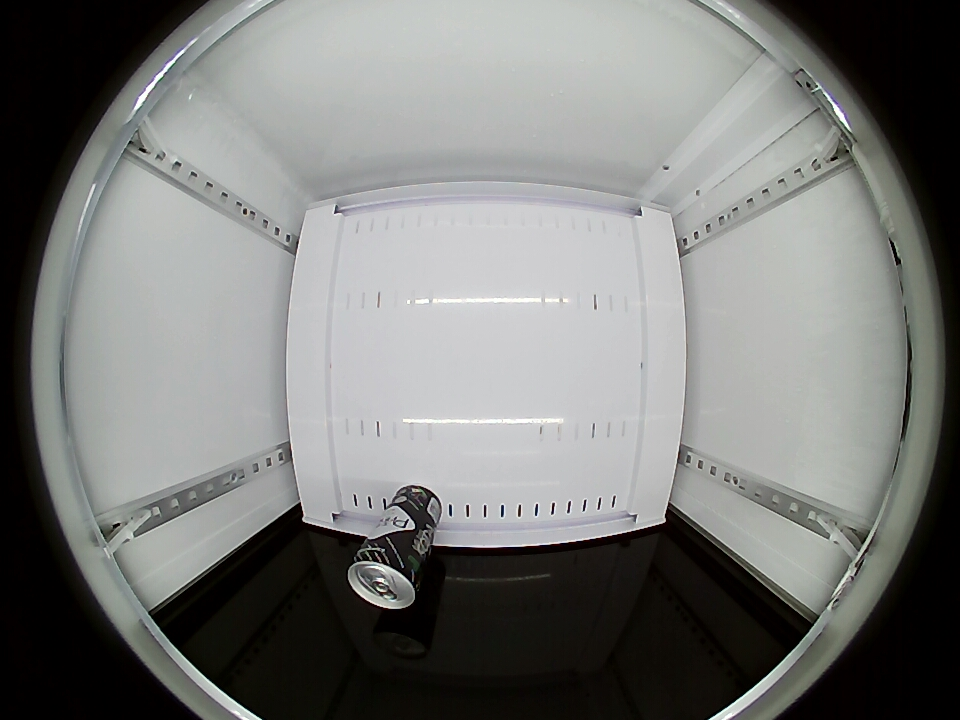qingdaowangzi-1: (347, 538, 424, 610)
